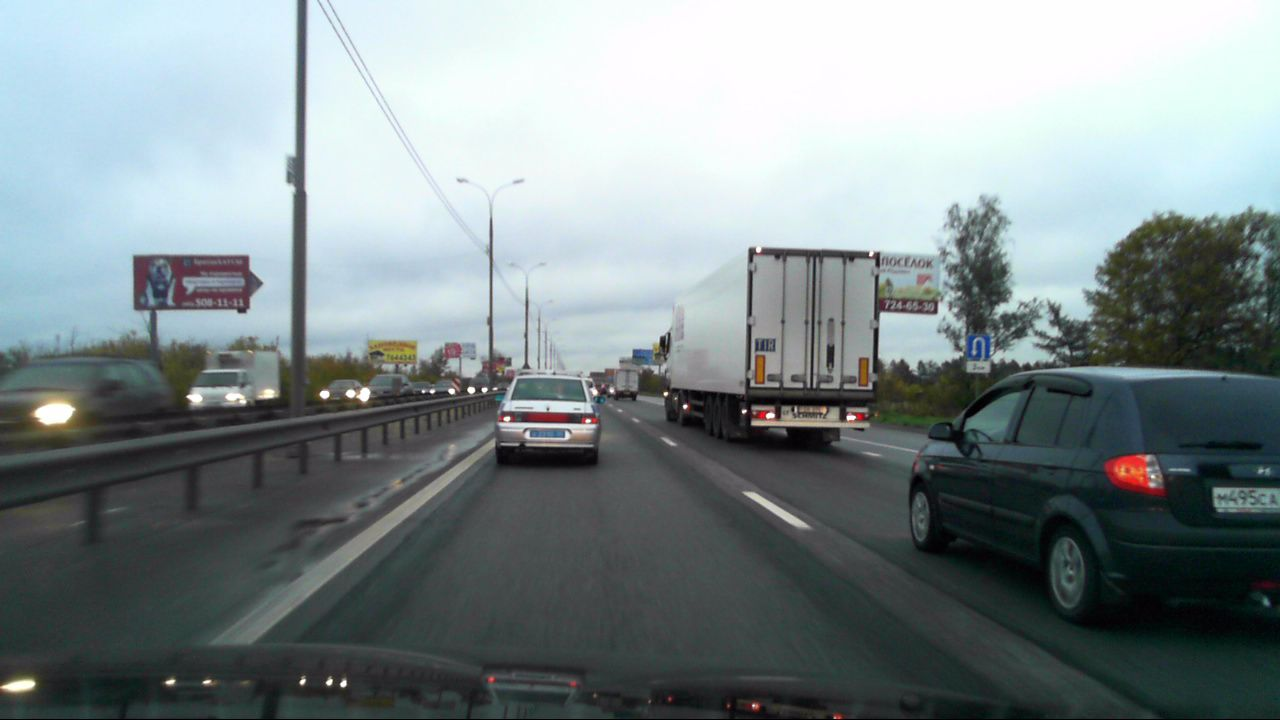U-turn: (967, 335, 990, 360)
